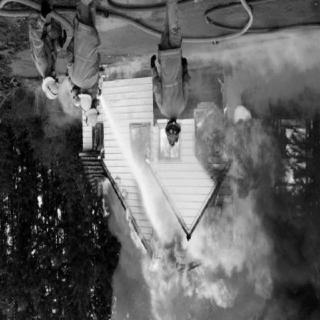Fire: (199, 72, 280, 299), (93, 178, 141, 258), (146, 202, 178, 309), (130, 123, 152, 165), (155, 128, 178, 166)
